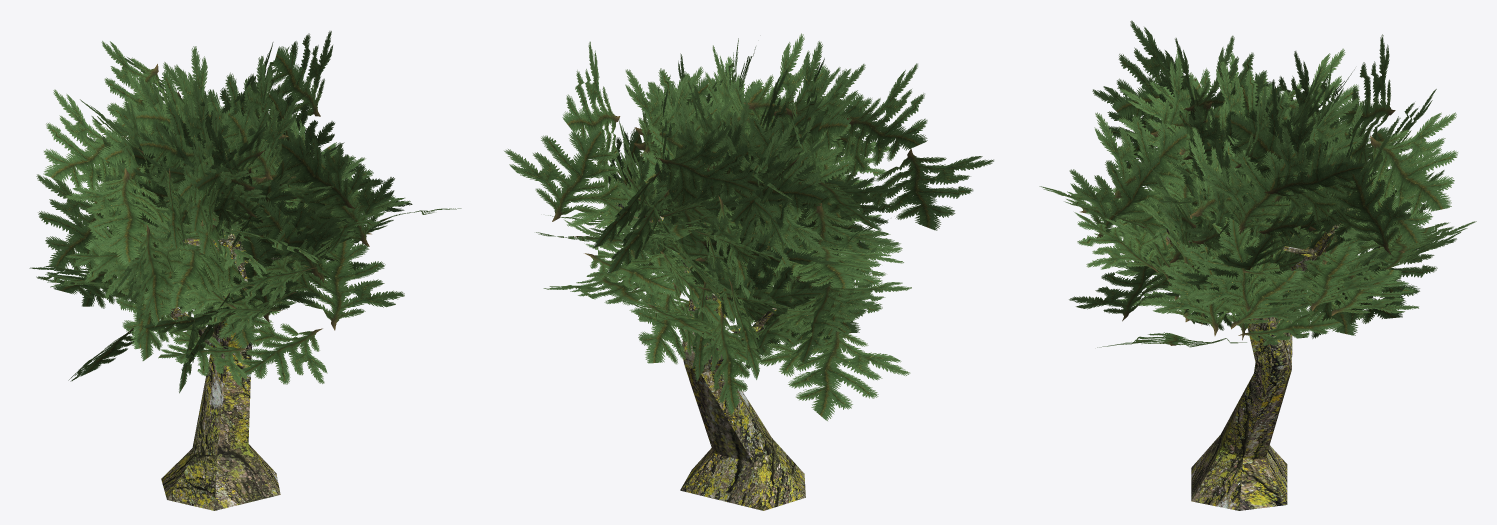
Rendered from tree.fbx.
The picture shows the model from 3 angles, left to right: view 1: azimuth 30°, elevation 25°; view 2: azimuth 150°, elevation 25°; view 3: azimuth 270°, elevation 25°; orthographic projection. The views are drawn at different scales.
Parts seen in each view (by area): view 1: Tree, Tree|branch3|Dupli|75, Tree|branch3|Dupli|68, Tree|branch3|Dupli|162, Tree|branch3|Dupli|158, Tree|branch3|Dupli|7, Tree|branch3|Dupli|54, Tree|branch3|Dupli|84, Tree|branch3|Dupli|62, Tree|branch3|Dupli|152, Tree|branch3|Dupli|74, Tree|branch3|Dupli|87 (+43 smaller); view 2: Tree, Tree|branch3|Dupli|40, Tree|branch3|Dupli|96, Tree|branch3|Dupli|36, Tree|branch3|Dupli|35, Tree|branch3|Dupli|150, Tree|branch3|Dupli|163, Tree|branch3|Dupli|57, Tree|branch3|Dupli|97, Tree|branch3|Dupli|152, Tree|branch3|Dupli|127, Tree|branch3|Dupli|164 (+57 smaller); view 3: Tree, Tree|branch3|Dupli|39, Tree|branch3|Dupli|152, Tree|branch3|Dupli|158, Tree|branch3|Dupli|87, Tree|branch3|Dupli|13, Tree|branch3|Dupli|40, Tree|branch3|Dupli|17, Tree|branch3|Dupli|103, Tree|branch3|Dupli|150, Tree|branch3|Dupli|146, Tree|branch3|Dupli|75 (+46 smaller).
Boxes of the visible parts, left/top/right/bottom form: Tree: left=161, top=226, right=309, bottom=510; Tree|branch3|Dupli|75: left=281, top=238, right=404, bottom=330; Tree|branch3|Dupli|68: left=65, top=168, right=170, bottom=265; Tree|branch3|Dupli|162: left=43, top=89, right=125, bottom=210; Tree|branch3|Dupli|158: left=281, top=135, right=354, bottom=219; Tree|branch3|Dupli|7: left=239, top=323, right=327, bottom=384; Tree|branch3|Dupli|54: left=138, top=79, right=227, bottom=218; Tree|branch3|Dupli|84: left=248, top=198, right=340, bottom=277; Tree|branch3|Dupli|62: left=36, top=174, right=117, bottom=276; Tree|branch3|Dupli|152: left=270, top=31, right=332, bottom=122; Tree|branch3|Dupli|74: left=218, top=97, right=298, bottom=180; Tree|branch3|Dupli|87: left=297, top=154, right=394, bottom=246; Tree: left=615, top=203, right=805, bottom=510; Tree|branch3|Dupli|40: left=504, top=125, right=640, bottom=221; Tree|branch3|Dupli|96: left=757, top=321, right=910, bottom=420; Tree|branch3|Dupli|36: left=855, top=149, right=993, bottom=230; Tree|branch3|Dupli|35: left=834, top=63, right=927, bottom=183; Tree|branch3|Dupli|150: left=658, top=124, right=759, bottom=213; Tree|branch3|Dupli|163: left=728, top=122, right=829, bottom=231; Tree|branch3|Dupli|57: left=775, top=285, right=881, bottom=363; Tree|branch3|Dupli|97: left=634, top=280, right=708, bottom=364; Tree|branch3|Dupli|152: left=562, top=41, right=620, bottom=187; Tree|branch3|Dupli|127: left=781, top=203, right=900, bottom=303; Tree|branch3|Dupli|164: left=771, top=246, right=903, bottom=288; Tree: left=1166, top=208, right=1349, bottom=510; Tree|branch3|Dupli|39: left=1348, top=112, right=1457, bottom=225; Tree|branch3|Dupli|152: left=1264, top=126, right=1365, bottom=226; Tree|branch3|Dupli|158: left=1094, top=112, right=1188, bottom=228; Tree|branch3|Dupli|87: left=1069, top=156, right=1166, bottom=238; Tree|branch3|Dupli|13: left=1198, top=147, right=1323, bottom=235; Tree|branch3|Dupli|40: left=1324, top=157, right=1411, bottom=254; Tree|branch3|Dupli|17: left=1187, top=217, right=1285, bottom=311; Tree|branch3|Dupli|103: left=1270, top=244, right=1393, bottom=311; Tree|branch3|Dupli|150: left=1339, top=34, right=1395, bottom=169; Tree|branch3|Dupli|146: left=1231, top=108, right=1313, bottom=178; Tree|branch3|Dupli|75: left=1069, top=248, right=1194, bottom=321.
Size of the model in its own units: 689 by 794 by 742.
